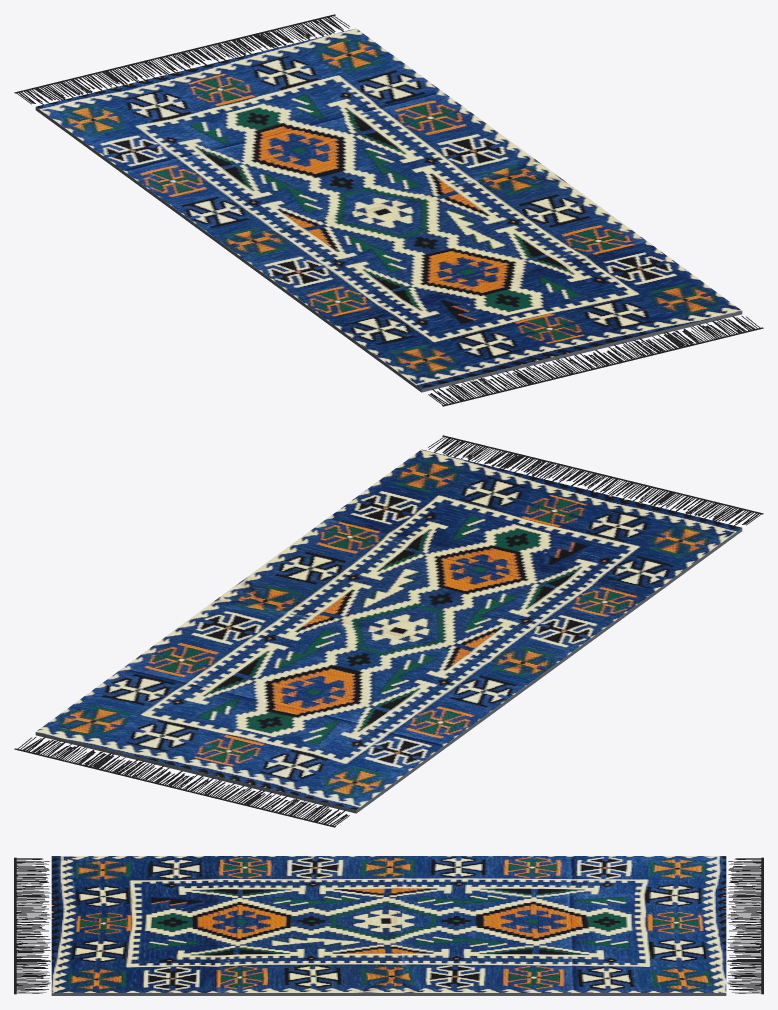
3 views of the same model, one above another, from view 1: azimuth 30°, elevation 25°; view 2: azimuth 150°, elevation 25°; view 3: azimuth 270°, elevation 25° (orthographic). The views are drawn at different scales.
Parts seen in each view (by area): view 1: rug, fringeB, fringeA, side; view 2: rug, fringeA, fringeB, side; view 3: rug, fringeA, fringeB, side.
Part boxes in pixels (bbox=[...]): rug: bbox=[36, 28, 741, 388]; fringeB: bbox=[428, 316, 763, 406]; fringeA: bbox=[14, 14, 349, 104]; side: bbox=[35, 107, 742, 392]; rug: bbox=[36, 449, 741, 809]; fringeA: bbox=[14, 737, 349, 827]; fringeB: bbox=[428, 435, 763, 525]; side: bbox=[35, 528, 742, 813]; rug: bbox=[51, 856, 726, 992]; fringeA: bbox=[727, 857, 763, 994]; fringeB: bbox=[14, 857, 50, 994]; side: bbox=[51, 993, 726, 995].
Size of what is drawn, in the model's own units: 0.6 by 0.00614 by 1.39.
2 materials, 2 textured.
